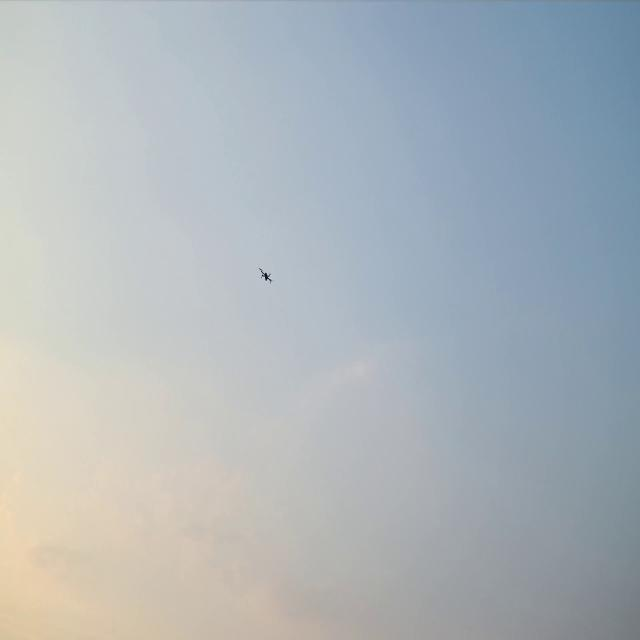UAV: (260, 269, 271, 283)
